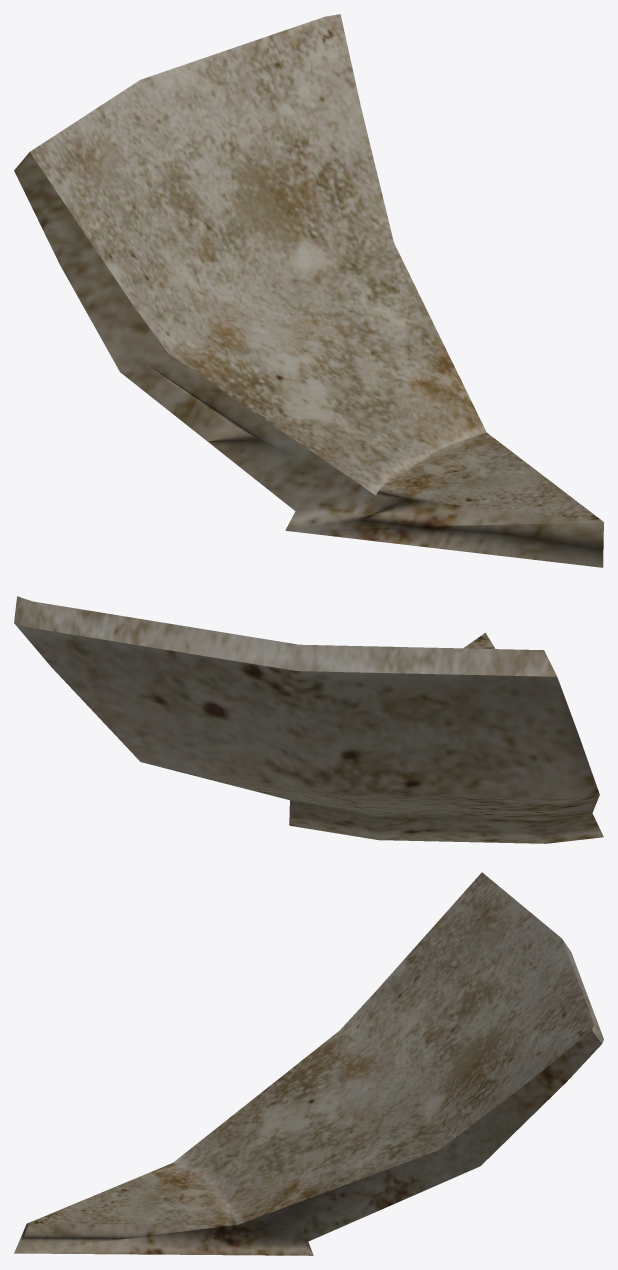
File: PlateDeepShardA.fbx
3 renders of one model, top to bottom at view 1: azimuth 30°, elevation 25°; view 2: azimuth 150°, elevation 25°; view 3: azimuth 270°, elevation 25°, orthographic. The views are drawn at different scales.
Visible parts, largest first — view 1: Default_Layer; view 2: Default_Layer; view 3: Default_Layer.
Boxes of the visible parts, x1,y1,x2,y2 form: Default_Layer: [14, 14, 603, 567]; Default_Layer: [14, 596, 603, 843]; Default_Layer: [14, 872, 603, 1255].
Bounding box in the file's own units: 23.85 × 17.18 × 36.29.
